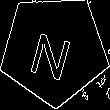N_N: (29, 20, 80, 80)
